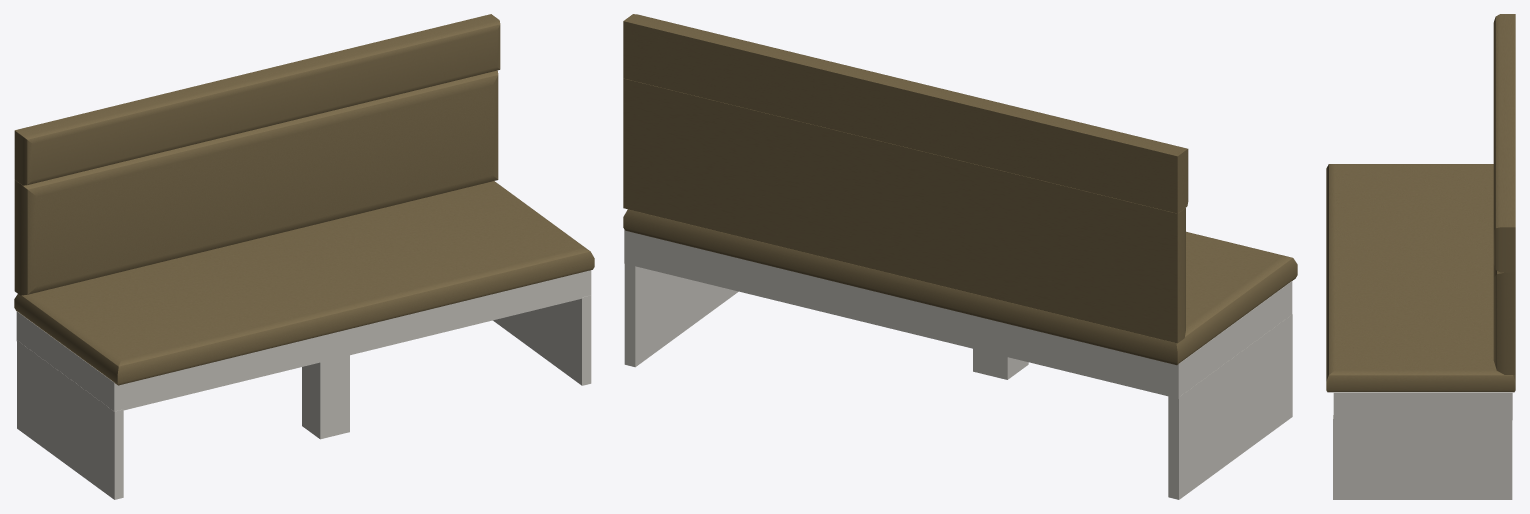
Rendered from LC_3176_bench_c_LOD2.fbx.
3 renders of one model, left to right at view 1: azimuth 30°, elevation 25°; view 2: azimuth 150°, elevation 25°; view 3: azimuth 270°, elevation 25°, orthographic. The views are drawn at different scales.
Parts seen in each view (by area): view 1: LC_3176_bc_LOD2; view 2: LC_3176_bc_LOD2; view 3: LC_3176_bc_LOD2.
Boxes of the visible parts, x1=… form: LC_3176_bc_LOD2: x1=14, y1=14, x2=594, y2=499; LC_3176_bc_LOD2: x1=623, y1=14, x2=1297, y2=499; LC_3176_bc_LOD2: x1=1326, y1=14, x2=1515, y2=499.
Size of the model in its own units: 160 by 95.23 by 60.
1 material, 1 textured.
